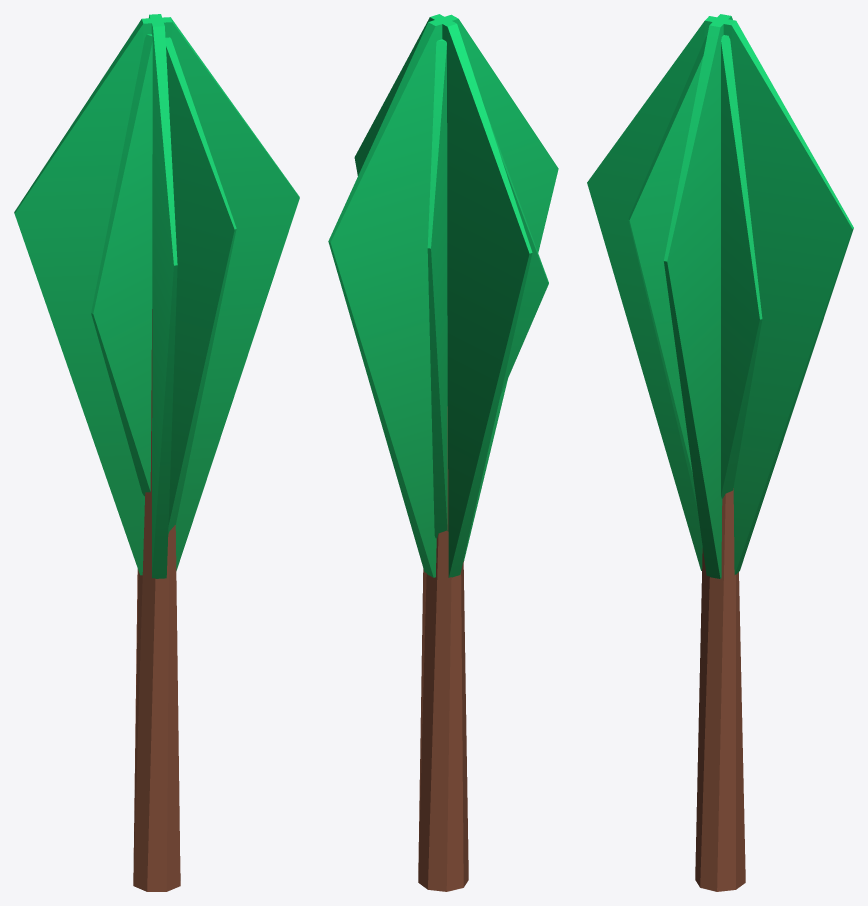
The model's file is Tree_31_gradient_green_pal.fbx.
3 renders of one model, left to right at view 1: azimuth 30°, elevation 25°; view 2: azimuth 150°, elevation 25°; view 3: azimuth 270°, elevation 25°, orthographic.
Parts seen in each view (by area): view 1: Tree_31_gradient_green_pal; view 2: Tree_31_gradient_green_pal; view 3: Tree_31_gradient_green_pal.
Boxes of the visible parts, x1,y1,x2,y2 form: Tree_31_gradient_green_pal: (14,14,299,891); Tree_31_gradient_green_pal: (328,14,558,891); Tree_31_gradient_green_pal: (587,14,853,891).
Size of the model in its own units: 84.61 by 301 by 84.61.
